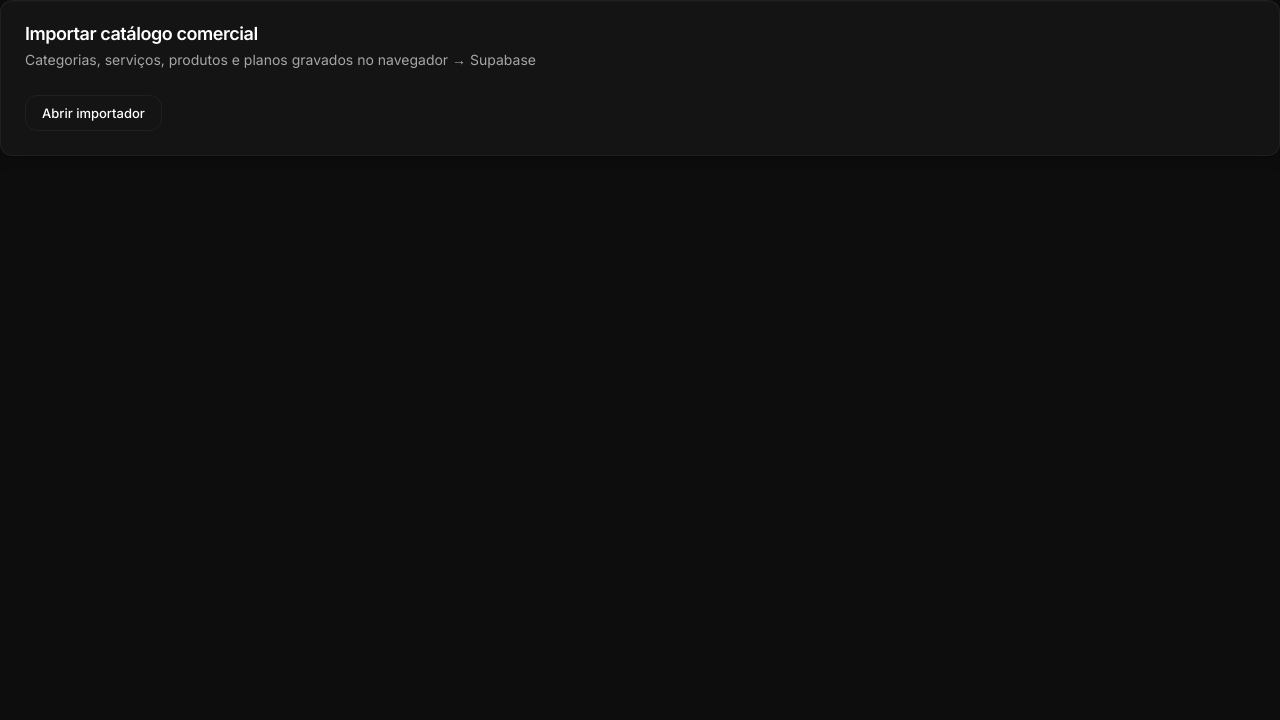
Test case: LocalCatalogImportCard › dependente fica travado até a dependência ser marcada; desmarcar a dependência desmarca o dependente
Click the button "Abrir importador": [93, 113] box [25, 95, 162, 131]
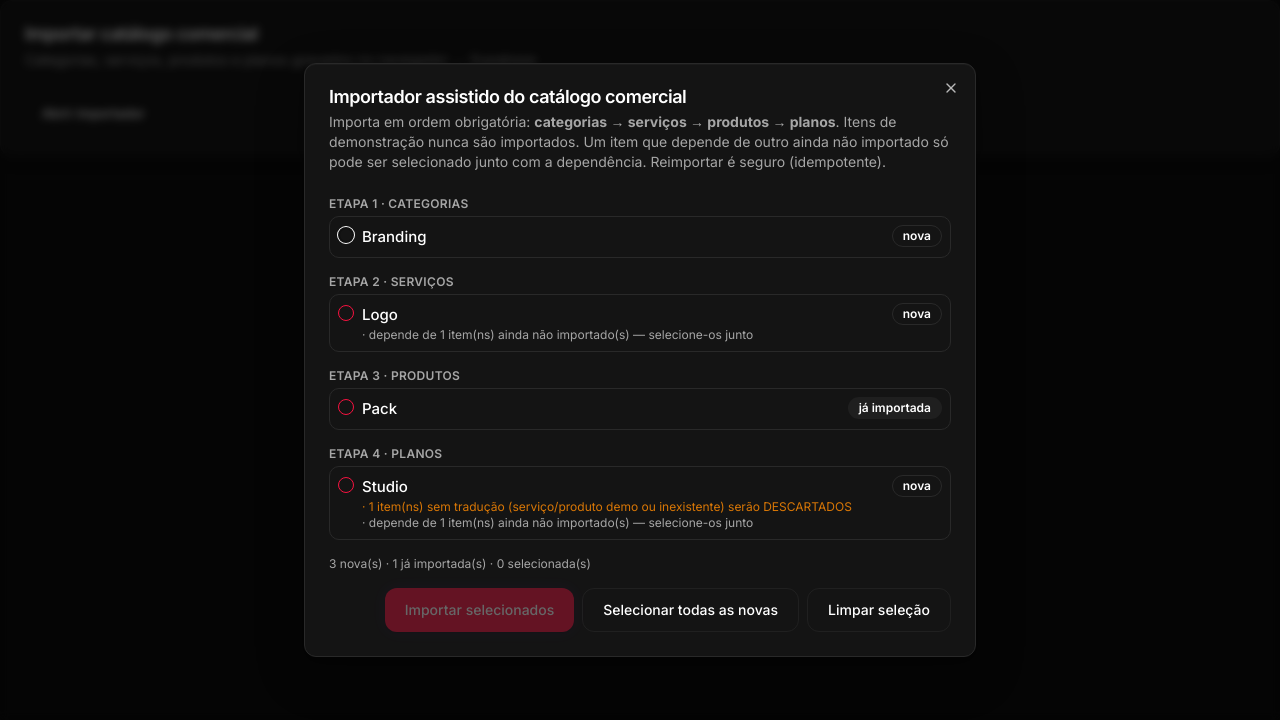
Result: the checkbox named "Selecionar Logo" is disabled at [338, 305, 354, 321]
Result: the 1st text "depende de 1 item(ns) ainda não importado(s)" is shown at [362, 327, 753, 343]
Click the checkbox named "Selecionar Branding": [346, 235] box [338, 227, 354, 243]
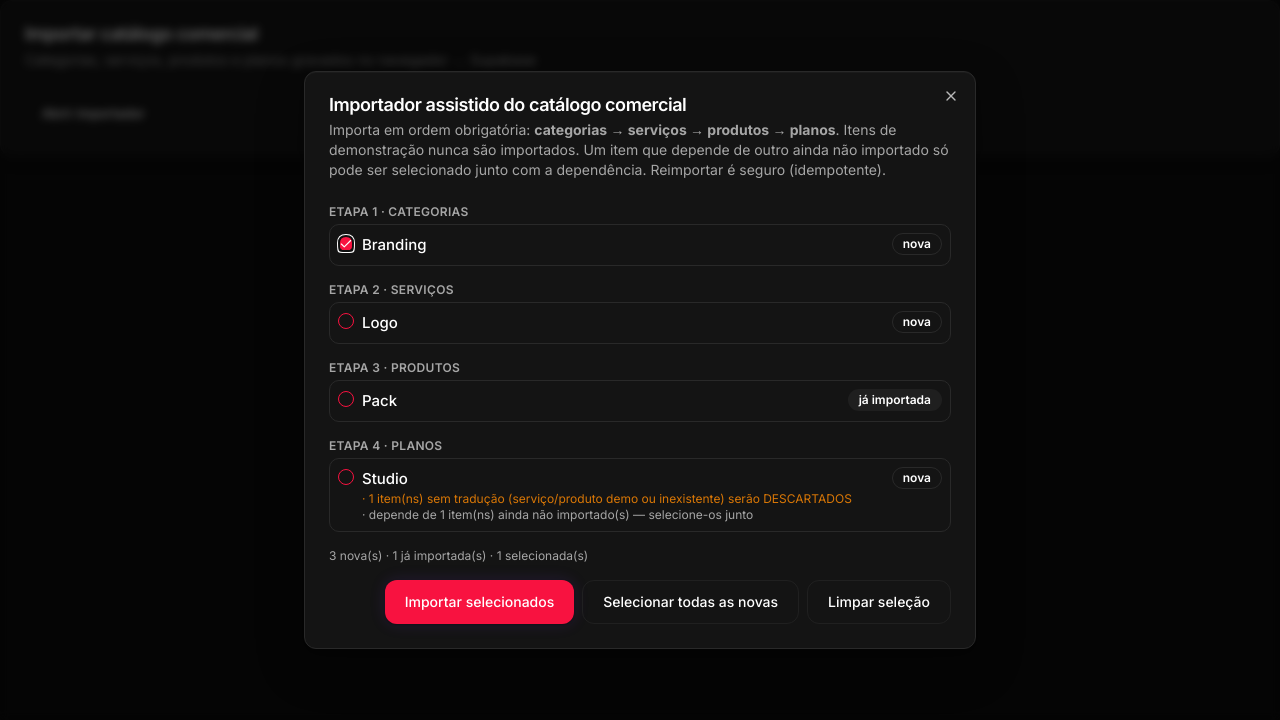
Result: the checkbox named "Selecionar Logo" is enabled
Click the checkbox named "Selecionar Logo": [346, 321] box [338, 313, 354, 329]
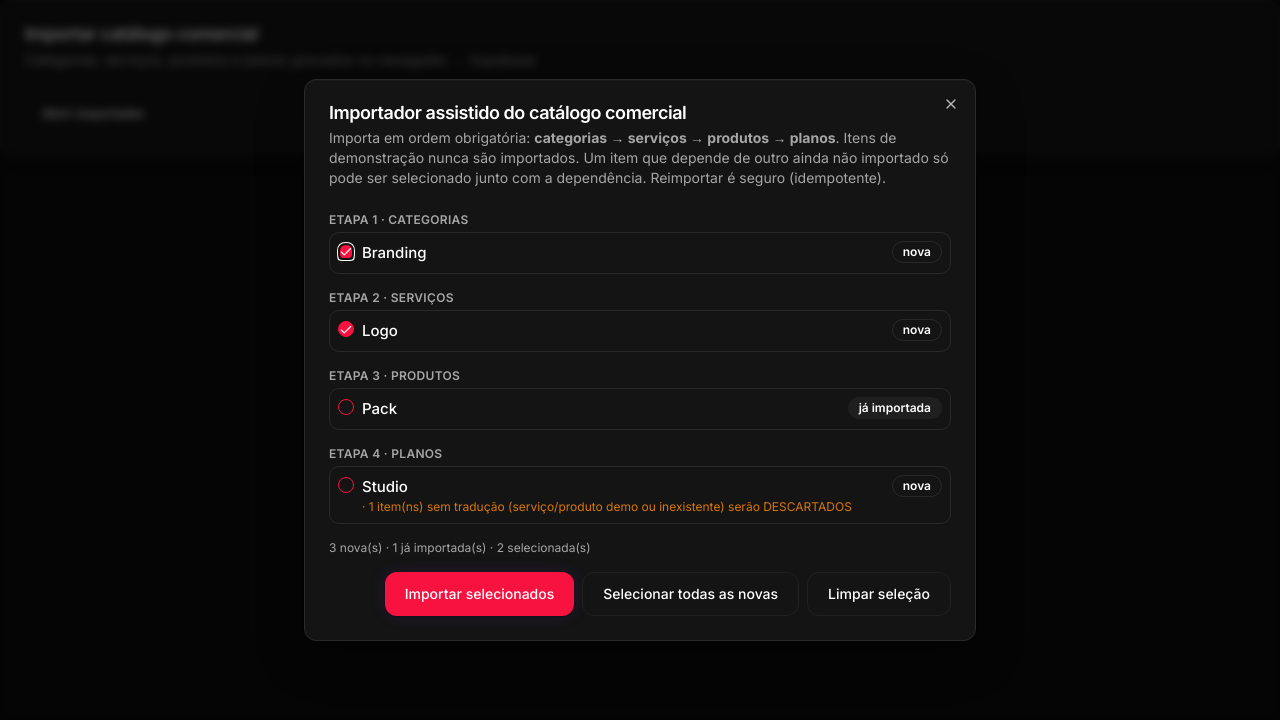
Result: the checkbox named "Selecionar Logo" is checked at [338, 321, 354, 337]
Click the checkbox named "Selecionar Branding": [346, 251] box [338, 243, 354, 259]
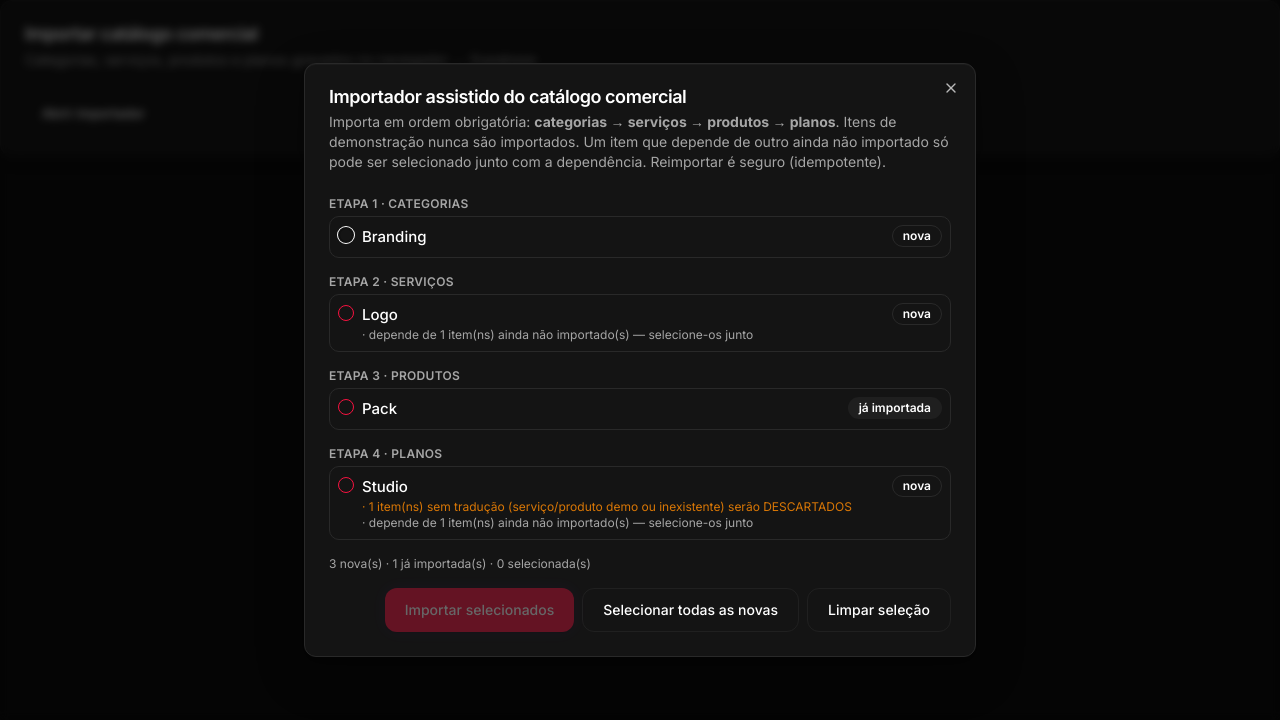
Result: the checkbox named "Selecionar Logo" is disabled at [338, 305, 354, 321]
